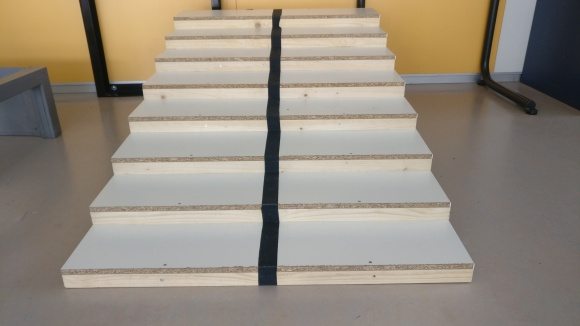stairs: (60, 7, 480, 290)
